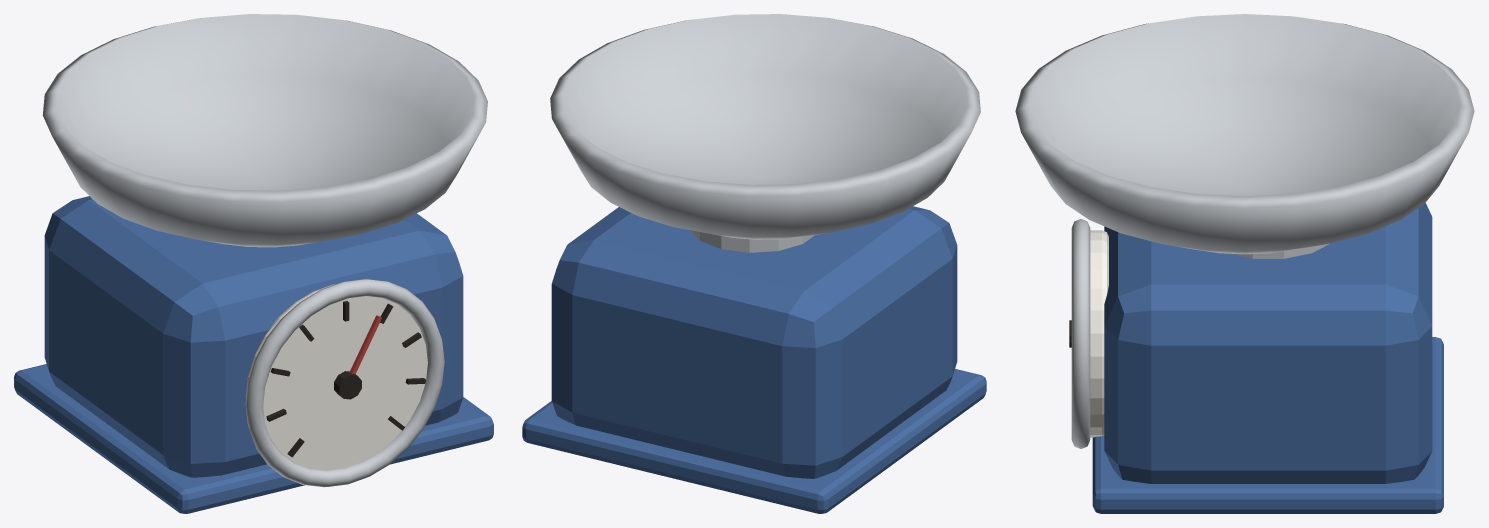
Rendered from hh_cat_scales.glb.
3 views of the same model, side by side, from view 1: azimuth 30°, elevation 25°; view 2: azimuth 150°, elevation 25°; view 3: azimuth 270°, elevation 25° (orthographic). The views are drawn at different scales.
Visible parts, largest first — view 1: bowl, scale_body, dial, scale_foot, dial_bezel, needle_hub; view 2: scale_body, bowl, scale_foot, bowl_stem; view 3: bowl, scale_body, scale_foot, dial_bezel, dial, bowl_stem.
Boxes of the visible parts, <box> form: bowl: <box>42,14,487,247</box>; scale_body: <box>44,196,463,477</box>; dial: <box>245,284,427,470</box>; scale_foot: <box>14,364,493,513</box>; dial_bezel: <box>245,279,444,487</box>; needle_hub: <box>334,371,361,399</box>; scale_body: <box>551,206,957,478</box>; bowl: <box>550,14,980,239</box>; scale_foot: <box>522,369,986,513</box>; bowl_stem: <box>690,230,814,252</box>; bowl: <box>1015,14,1474,254</box>; scale_body: <box>1104,203,1432,483</box>; scale_foot: <box>1092,337,1443,513</box>; dial_bezel: <box>1071,219,1090,448</box>; dial: <box>1090,230,1108,437</box>; bowl_stem: <box>1228,243,1329,258</box>.
Bounding box in the file's own units: 0.2 × 0.16 × 0.2.
